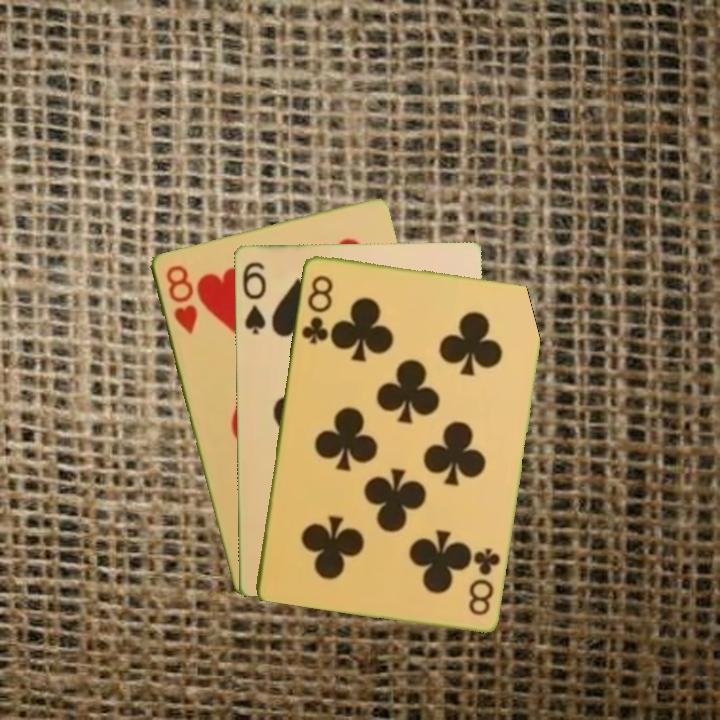6s: (239, 258, 268, 337)
8c: (297, 271, 335, 347), (464, 544, 503, 618)
8h: (162, 261, 200, 337)
